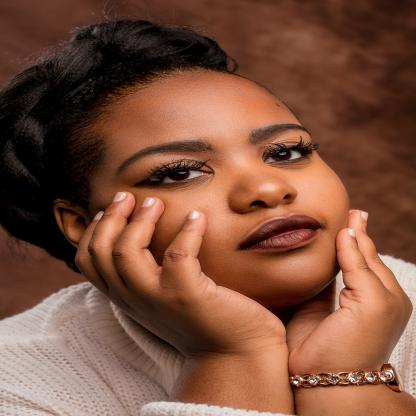Eye: (120, 155, 222, 193), (258, 140, 322, 168)
Nose: (233, 209, 333, 258), (228, 162, 298, 216)
